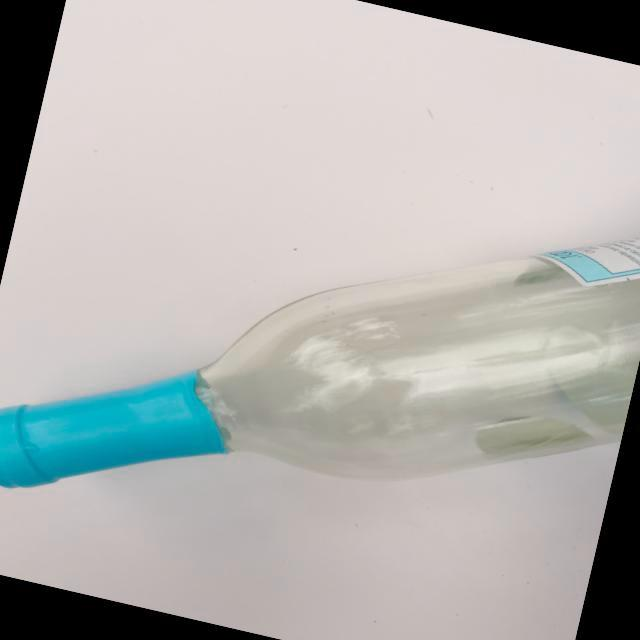glass: (0, 80, 640, 634)
